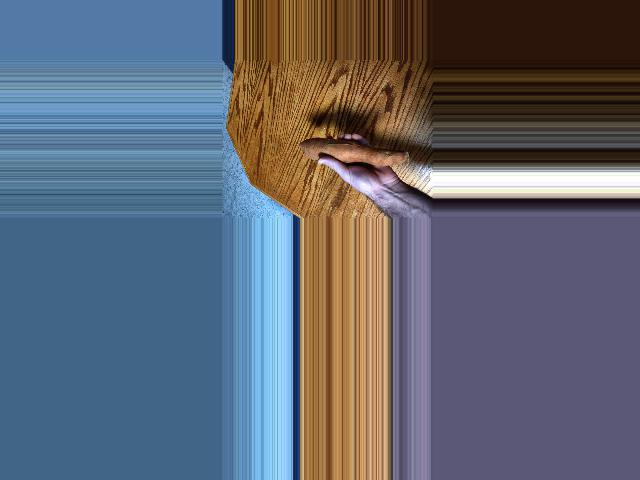sweet_potato: (297, 134, 414, 168)
